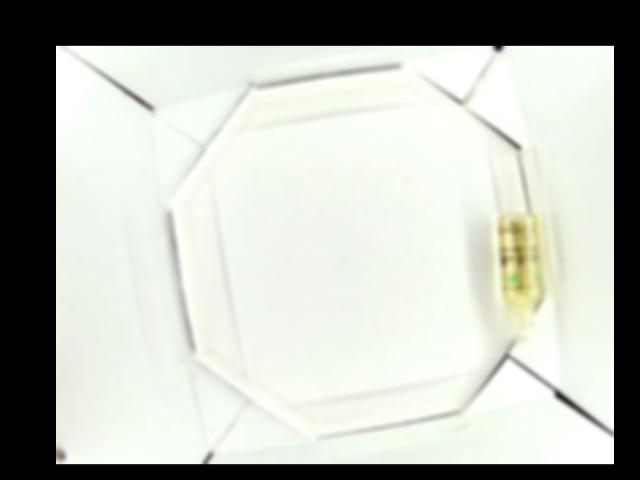Bottle: (492, 213, 545, 340)
